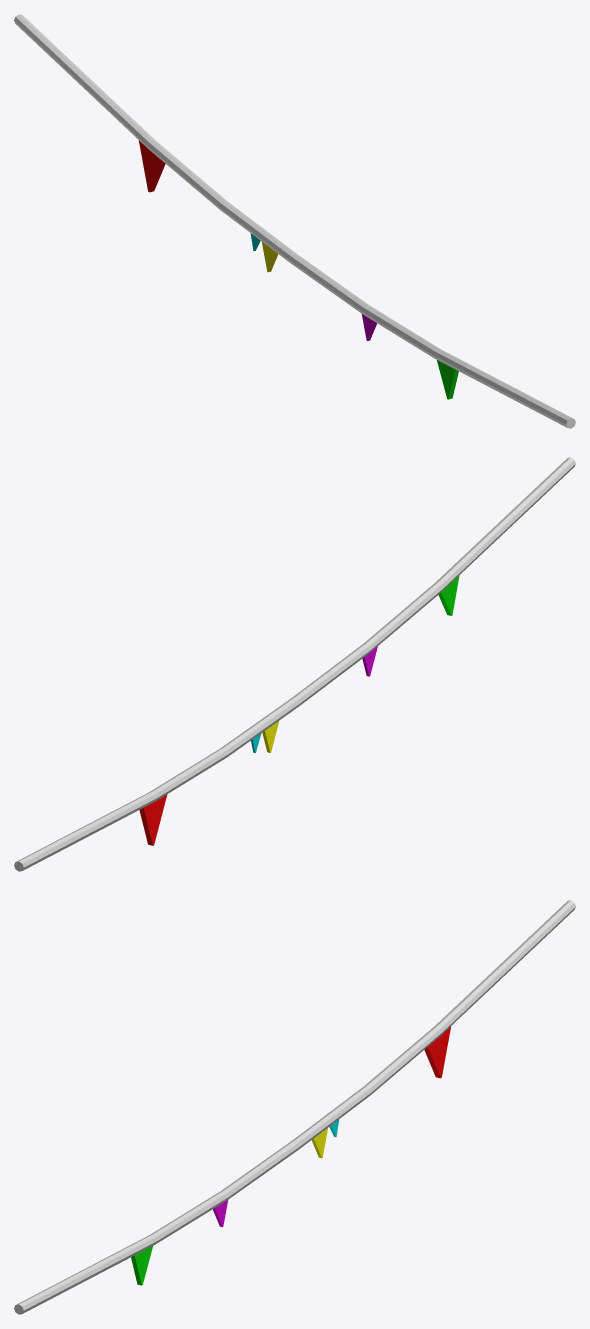
Rendered from decor.fbx.
3 renders of one model, top to bottom at view 1: azimuth 30°, elevation 25°; view 2: azimuth 150°, elevation 25°; view 3: azimuth 330°, elevation 25°, orthographic.
Visible parts, largest first — view 1: pCylinder1, pCube4; view 2: pCylinder1, pCube4; view 3: pCylinder1, pCube4.
Part boxes in pixels (box(x1,y1,x2,y2)): pCylinder1: box(14, 14, 575, 428); pCube4: box(138, 140, 165, 192); pCylinder1: box(14, 457, 575, 871); pCube4: box(139, 794, 167, 845); pCylinder1: box(14, 900, 575, 1314); pCube4: box(424, 1026, 451, 1078).
Bounding box in the file's own units: 1.86 × 14.49 × 180.
